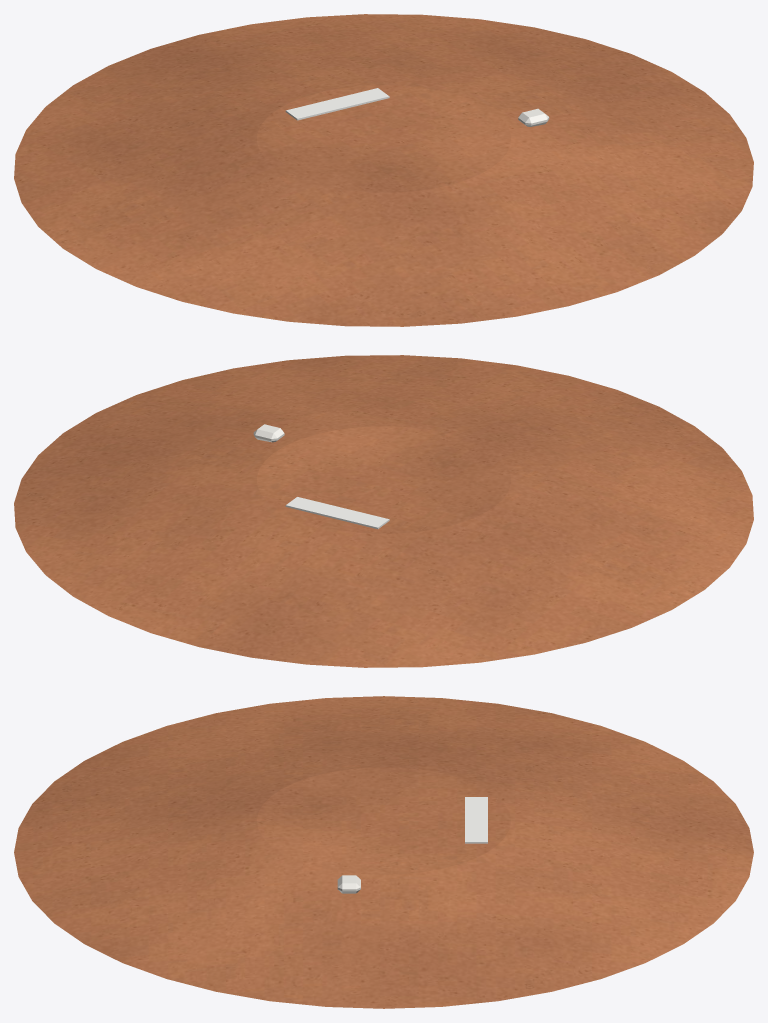
File: mound.glb
3 views of the same model, one above another, from view 1: azimuth 30°, elevation 25°; view 2: azimuth 150°, elevation 25°; view 3: azimuth 270°, elevation 25° (orthographic).
Visible parts, largest first — view 1: mound_clay, mound_paint_w; view 2: mound_clay, mound_paint_w; view 3: mound_clay, mound_paint_w.
Part boxes in pixels (bbox=[...]): mound_clay: bbox=[14, 14, 753, 326]; mound_paint_w: bbox=[285, 88, 389, 120]; mound_clay: bbox=[14, 355, 753, 667]; mound_paint_w: bbox=[285, 497, 389, 529]; mound_clay: bbox=[14, 696, 753, 1008]; mound_paint_w: bbox=[465, 797, 487, 843].
Size of the model in its own units: 3.2 by 0.18 by 3.2.
Materials: 3 (1 with a texture image).
